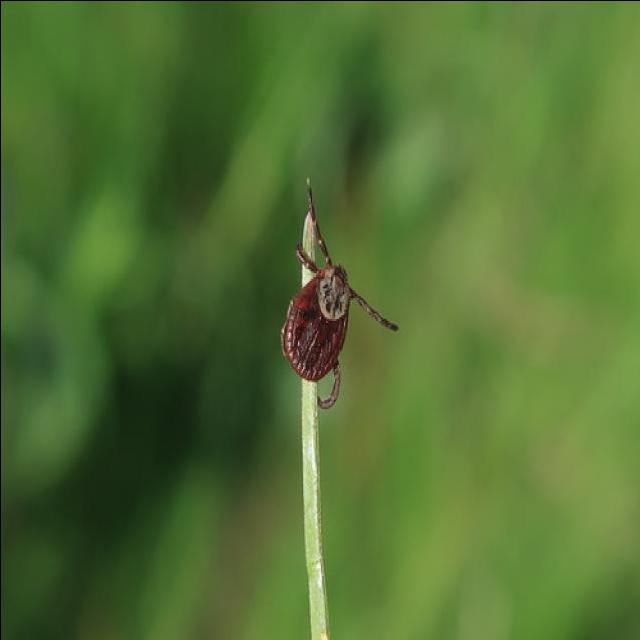Dermacentor Reticulatus-F: (278, 182, 396, 410)
